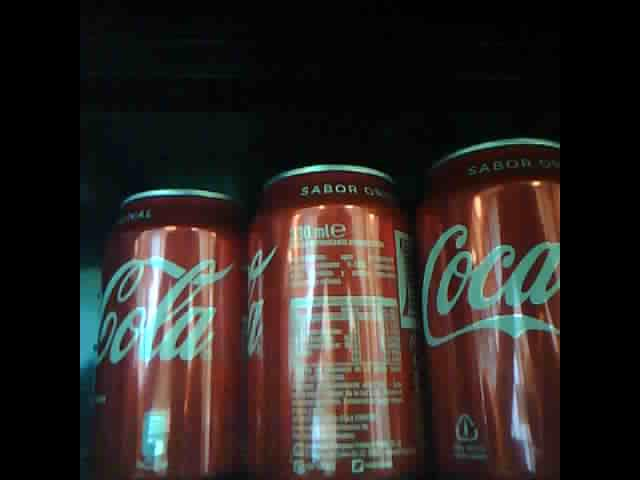coca cola: (240, 163, 424, 477), (413, 138, 559, 474), (110, 184, 245, 475)
